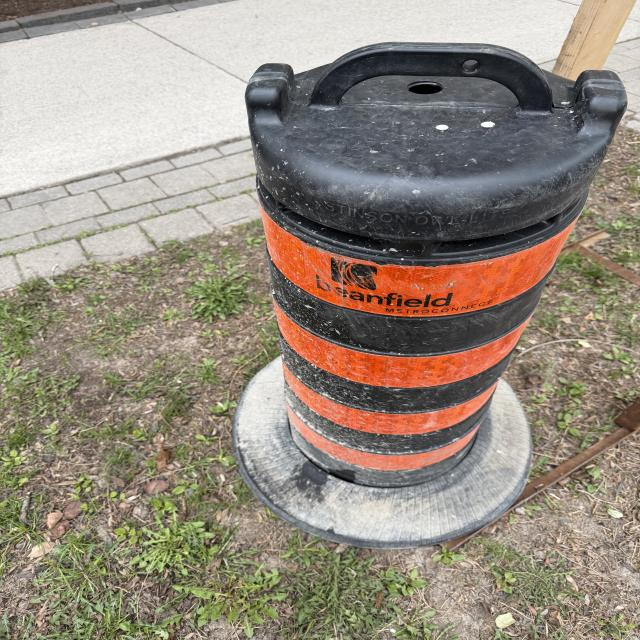Teraffic Barrel: (234, 43, 626, 546)
